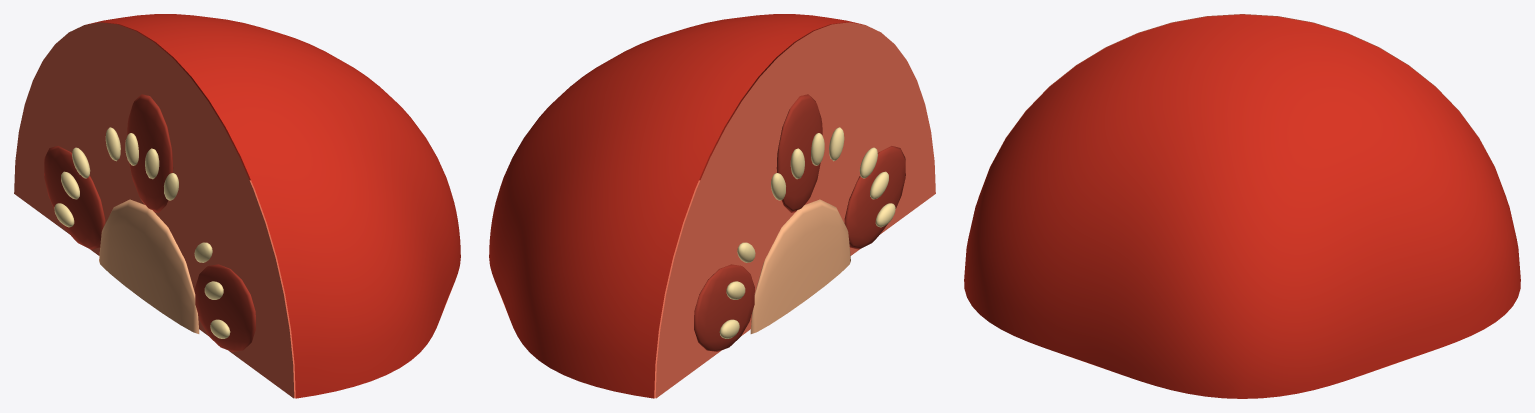
File: standard_wedge.glb
The picture shows the model from 3 angles, left to right: view 1: azimuth 30°, elevation 25°; view 2: azimuth 150°, elevation 25°; view 3: azimuth 270°, elevation 25°; orthographic projection. The views are drawn at different scales.
Parts seen in each view (by area): view 1: Prepared right half, Cut flesh, Pale central core, Seed chamber.001, Seed chamber, Seed chamber.004, Seed; view 2: Prepared right half, Cut flesh, Pale central core, Seed chamber.004, Seed chamber, Seed chamber.001, Seed.003; view 3: Prepared right half, Cut flesh.
Part boxes in pixels (x1,y1,x2,y2): Prepared right half: (87,14,460,398); Cut flesh: (14,22,294,398); Pale central core: (99,199,199,333); Seed chamber.001: (195,264,255,351); Seed chamber: (127,94,173,212); Seed chamber.004: (44,146,105,249); Seed: (105,127,120,161); Prepared right half: (489,14,862,398); Cut flesh: (655,22,935,398); Pale central core: (750,199,850,333); Seed chamber.004: (694,264,754,351); Seed chamber: (776,94,822,212); Seed chamber.001: (844,146,905,249); Seed.003: (829,127,844,161); Prepared right half: (964,14,1520,398); Cut flesh: (978,14,1506,197).
Size of the model in its own units: 0.668 by 0.53 by 1.08.
